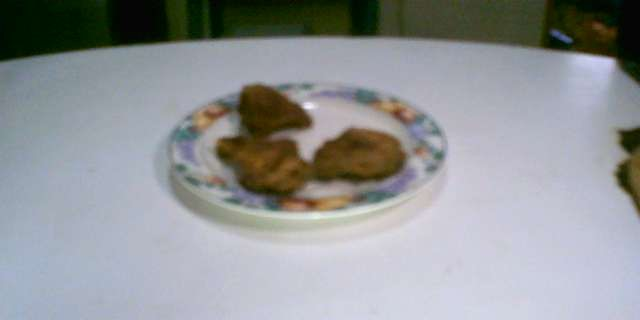chicken: (215, 130, 308, 196), (308, 124, 407, 184), (233, 82, 313, 135)
